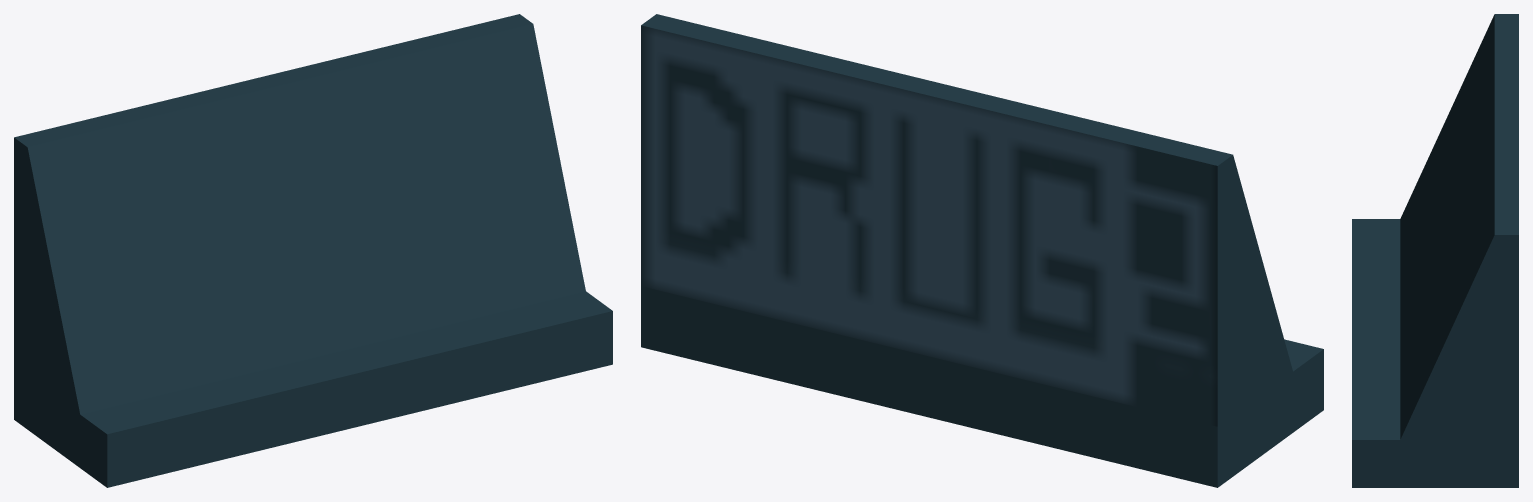
File: Placa.fbx
3 views of the same model, side by side, from view 1: azimuth 30°, elevation 25°; view 2: azimuth 150°, elevation 25°; view 3: azimuth 270°, elevation 25° (orthographic). The views are drawn at different scales.
Parts seen in each view (by area): view 1: Placa; view 2: Placa; view 3: Placa.
Boxes of the visible parts, x1=… form: Placa: x1=14, y1=14, x2=612, y2=487; Placa: x1=641, y1=14, x2=1323, y2=487; Placa: x1=1352, y1=14, x2=1518, y2=487.
Size of the model in its own units: 77.15 by 41.17 by 24.62.
